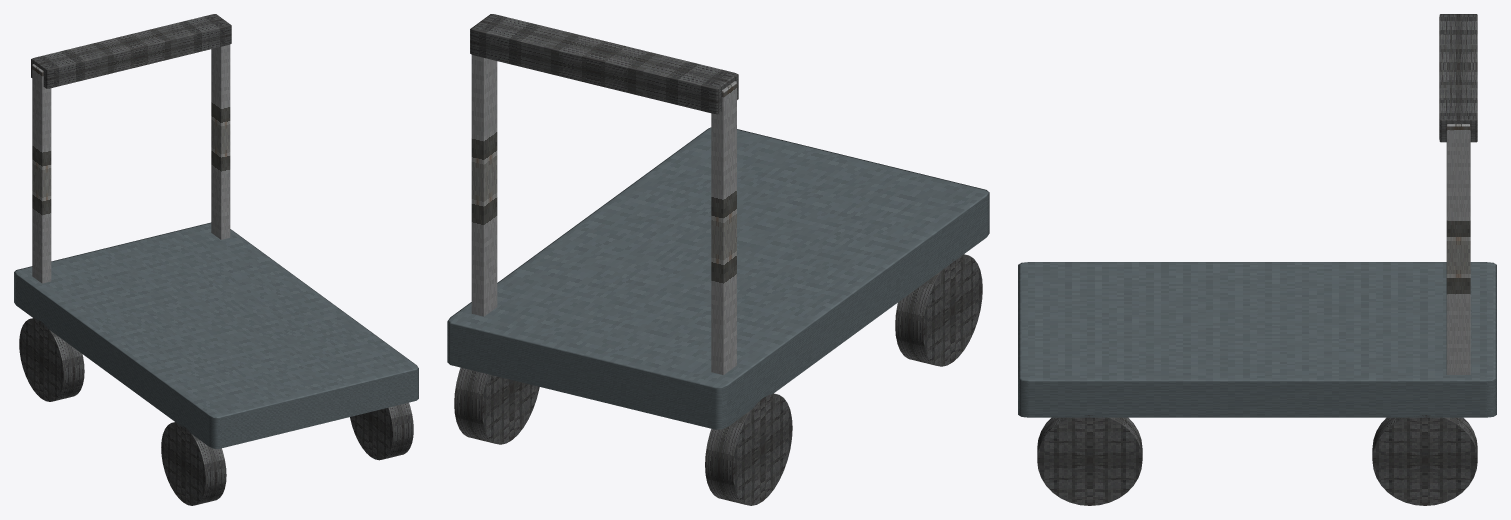
Rendered from utility-cart.glb.
The picture shows the model from 3 angles, left to right: view 1: azimuth 30°, elevation 25°; view 2: azimuth 150°, elevation 25°; view 3: azimuth 270°, elevation 25°; orthographic projection. The views are drawn at different scales.
Visible parts, largest first — view 1: deck, caster (×3), upright (×2), handle; view 2: deck, caster (×3), upright (×2), handle; view 3: deck, caster (×2), upright, handle.
Part boxes in pixels (x1=…): deck: x1=14, y1=222, x2=418, y2=448; caster (×3): x1=19, y1=318, x2=413, y2=505; upright (×2): x1=32, y1=44, x2=230, y2=283; handle: x1=31, y1=14, x2=231, y2=88; deck: x1=447, y1=127, x2=989, y2=429; caster (×3): x1=454, y1=254, x2=982, y2=505; upright (×2): x1=471, y1=55, x2=736, y2=374; handle: x1=470, y1=14, x2=738, y2=114; deck: x1=1018, y1=262, x2=1496, y2=417; caster (×2): x1=1037, y1=415, x2=1477, y2=505; upright: x1=1446, y1=124, x2=1470, y2=374; handle: x1=1439, y1=14, x2=1477, y2=142.
Size of the model in its own units: 0.61 by 0.9 by 1.03.
3 materials, 3 textured.
